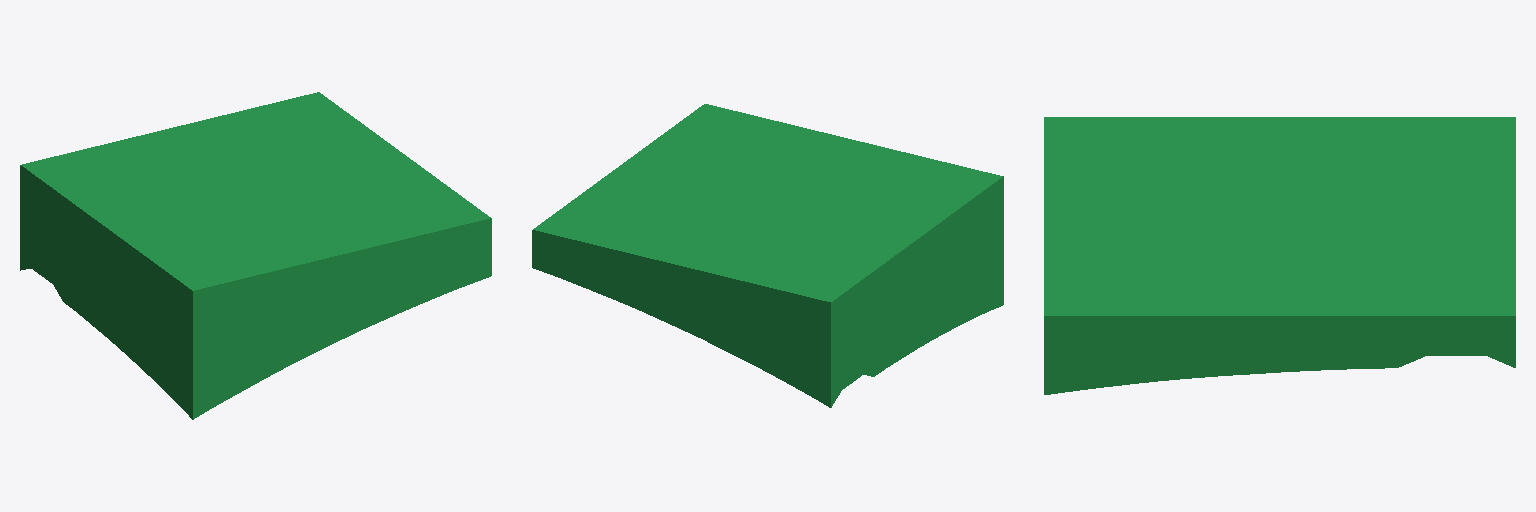
The robot description file, URDF, robot "satellite_5_provisional_side":
<?xml version='1.0' encoding='utf-8'?>
<robot name="satellite_5_provisional_side">
  <link name="base_link">
    <visual>
      <geometry>
        <mesh filename="satellite.stl" scale="1 1 1" />
      </geometry>
      <material name="satellite_body_color">
        <color rgba="0.65 0.72 0.8 1" />
      </material>
    </visual>
    <collision>
      <geometry>
        <mesh filename="satellite.stl" scale="1 1 1" />
      </geometry>
    </collision>
  </link>
  <link name="satellite_5_mount" />
  <joint name="satellite_mount_fixed" type="fixed">
    <parent link="base_link" />
    <child link="satellite_5_mount" />
    <origin xyz="-0.38 -0.12 1.1863715513837443" rpy="0.0 0.0 0.0" />
  </joint>
  <link name="concept_mount_pad">
    <visual>
      <geometry>
        <mesh filename="body_top_saddle.stl" />
      </geometry>
      <material name="saddle_green">
        <color rgba=".2 .65 .35 1" />
      </material>
    </visual>
    <collision>
      <geometry>
        <mesh filename="body_top_saddle.stl" />
      </geometry>
    </collision>
  </link>
  <joint name="pad_fixed" type="fixed">
    <parent link="satellite_5_mount" />
    <child link="concept_mount_pad" />
    <origin xyz="0 0 0" rpy="0 0 0" />
  </joint>
</robot>

--- What the picture shows (computed from the rendered views, not written in the file) ---
3 views of the same robot in one strip: view 1: azimuth 30°, elevation 25°; view 2: azimuth 150°, elevation 25°; view 3: azimuth 270°, elevation 25° (orthographic).
Robot: satellite_5_provisional_side — 3 links, 2 joints (2 fixed); root link base_link; default pose: every joint at zero.
Visible links, largest first — view 1: concept_mount_pad; view 2: concept_mount_pad; view 3: concept_mount_pad.
Link boxes in pixels (bbox=[...]): concept_mount_pad: bbox=[20, 92, 491, 419]; concept_mount_pad: bbox=[532, 104, 1003, 407]; concept_mount_pad: bbox=[1044, 117, 1515, 394].
Bounding box of the posed robot: 0.32 × 0.32 × 0.1322 m (x, y, z).
Meshes: 2 distinct files referenced, 1 mesh visuals loaded (1 binary STL); not drawn: 1 (reference not matched to a file when rendering).
